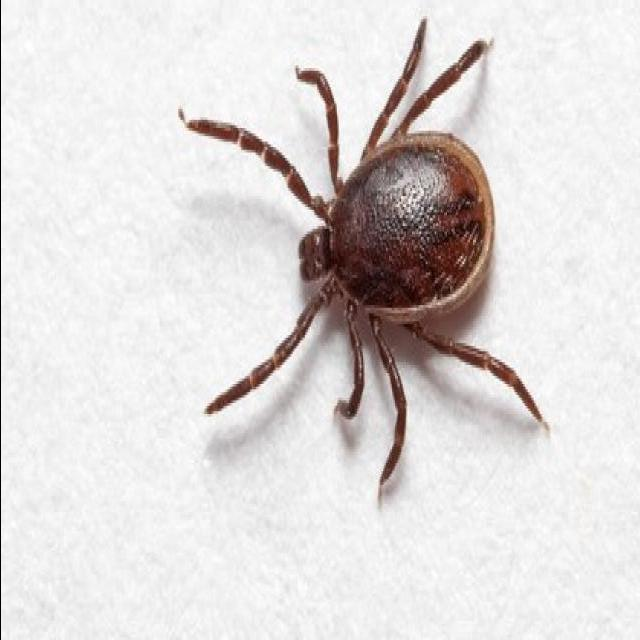Ixodes Ricinus-M: (177, 16, 544, 498)
